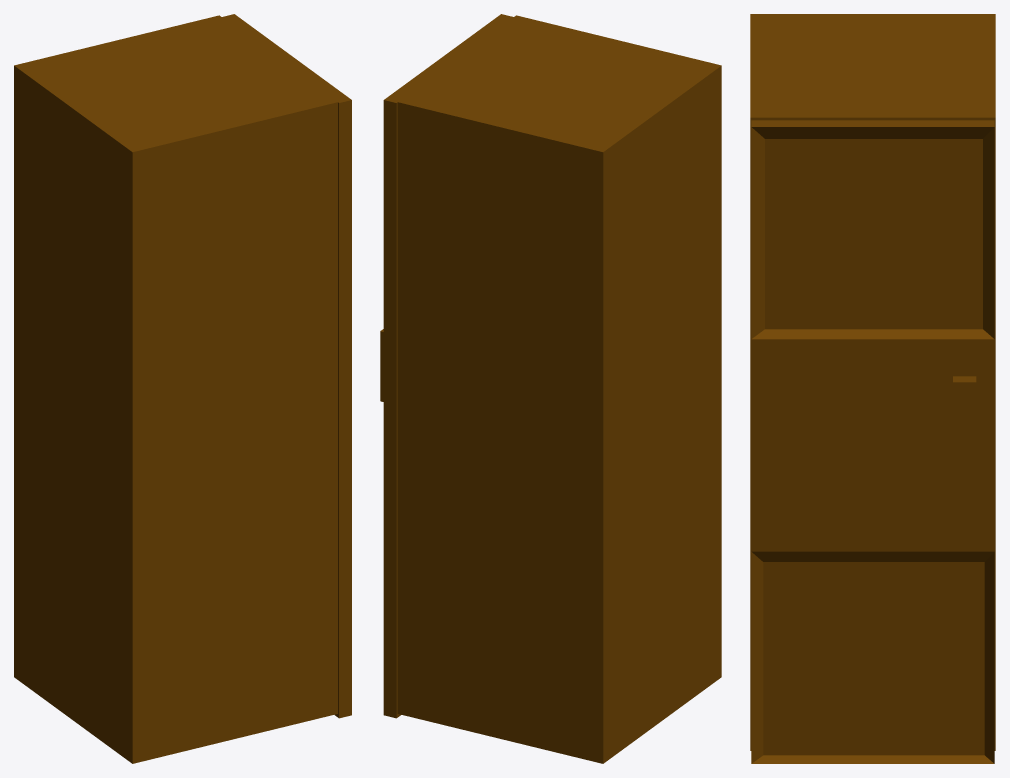
File: cupboard2.fbx
3 renders of one model, left to right at view 1: azimuth 30°, elevation 25°; view 2: azimuth 150°, elevation 25°; view 3: azimuth 270°, elevation 25°, orthographic. The views are drawn at different scales.
Visible parts, largest first — view 1: cupboard, cupboard door; view 2: cupboard, cupboard door; view 3: cupboard door, cupboard.
Boxes of the visible parts, x1,y1,x2,y2 form: cupboard: (14, 15, 337, 763); cupboard door: (222, 14, 351, 718); cupboard: (397, 15, 721, 763); cupboard door: (380, 14, 513, 718); cupboard door: (751, 120, 994, 763); cupboard: (750, 14, 995, 750).
Bounding box in the file's own units: 288 × 732 × 255.
